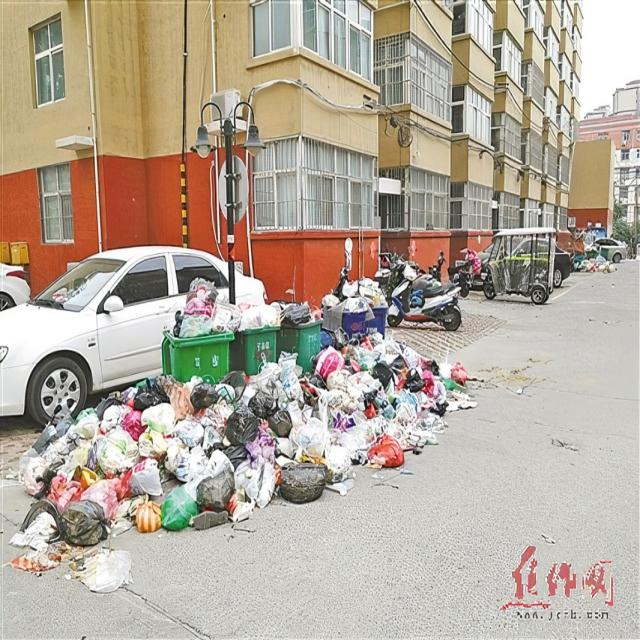garbage: (8, 329, 477, 592)
overflow: (162, 279, 234, 379), (279, 301, 323, 370), (238, 301, 280, 373), (364, 276, 388, 338), (340, 297, 368, 337)
